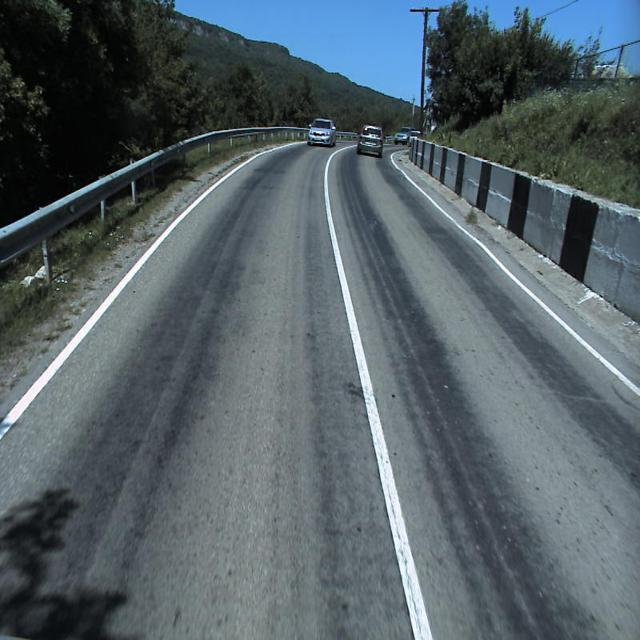road: (0, 140, 640, 639)
